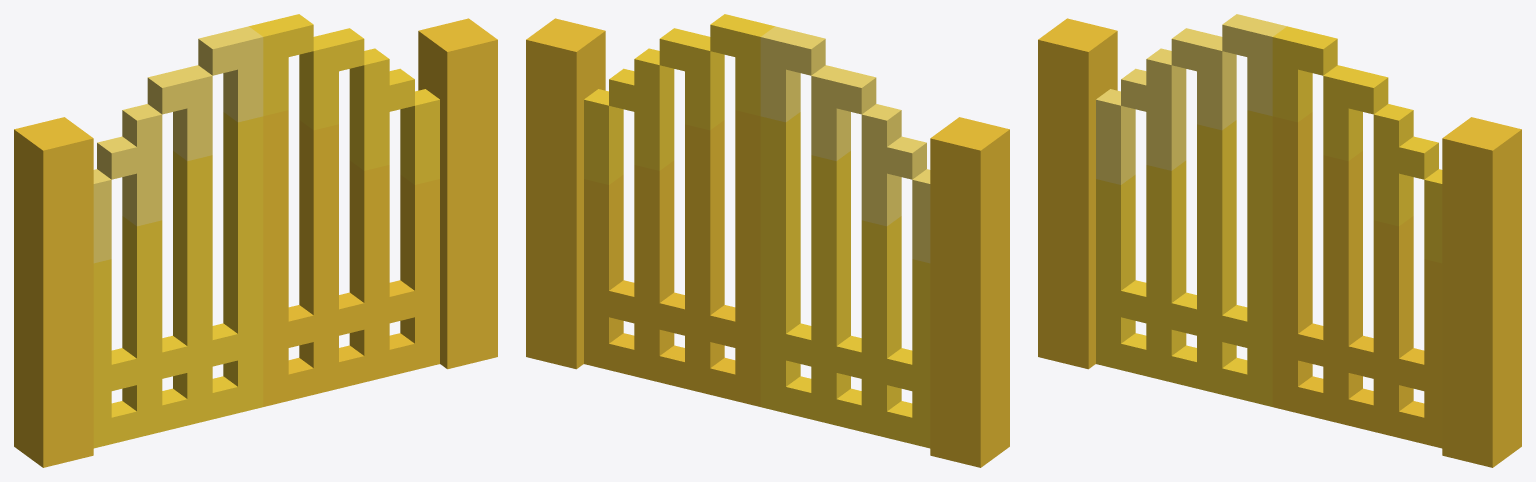
Rendered from key_gate.glb.
3 renders of one model, left to right at view 1: azimuth 30°, elevation 25°; view 2: azimuth 150°, elevation 25°; view 3: azimuth 330°, elevation 25°, orthographic.
Visible parts, largest first — view 1: DoorLeft, DoorRight, Cube; view 2: DoorLeft, DoorRight, Cube; view 3: DoorRight, DoorLeft, Cube.
Part boxes in pixels (box(x1,y1,x2,y2)): DoorLeft: box(93, 26, 263, 448); DoorRight: box(249, 14, 439, 406); Cube: box(14, 18, 497, 467); DoorLeft: box(760, 26, 930, 448); DoorRight: box(584, 14, 774, 406); Cube: box(526, 18, 1009, 467); DoorRight: box(1272, 26, 1442, 448); DoorLeft: box(1096, 14, 1286, 406); Cube: box(1038, 18, 1521, 467).
Bounding box in the file's own units: 1.8 × 1.4 × 0.2.
2 materials, 2 textured.
